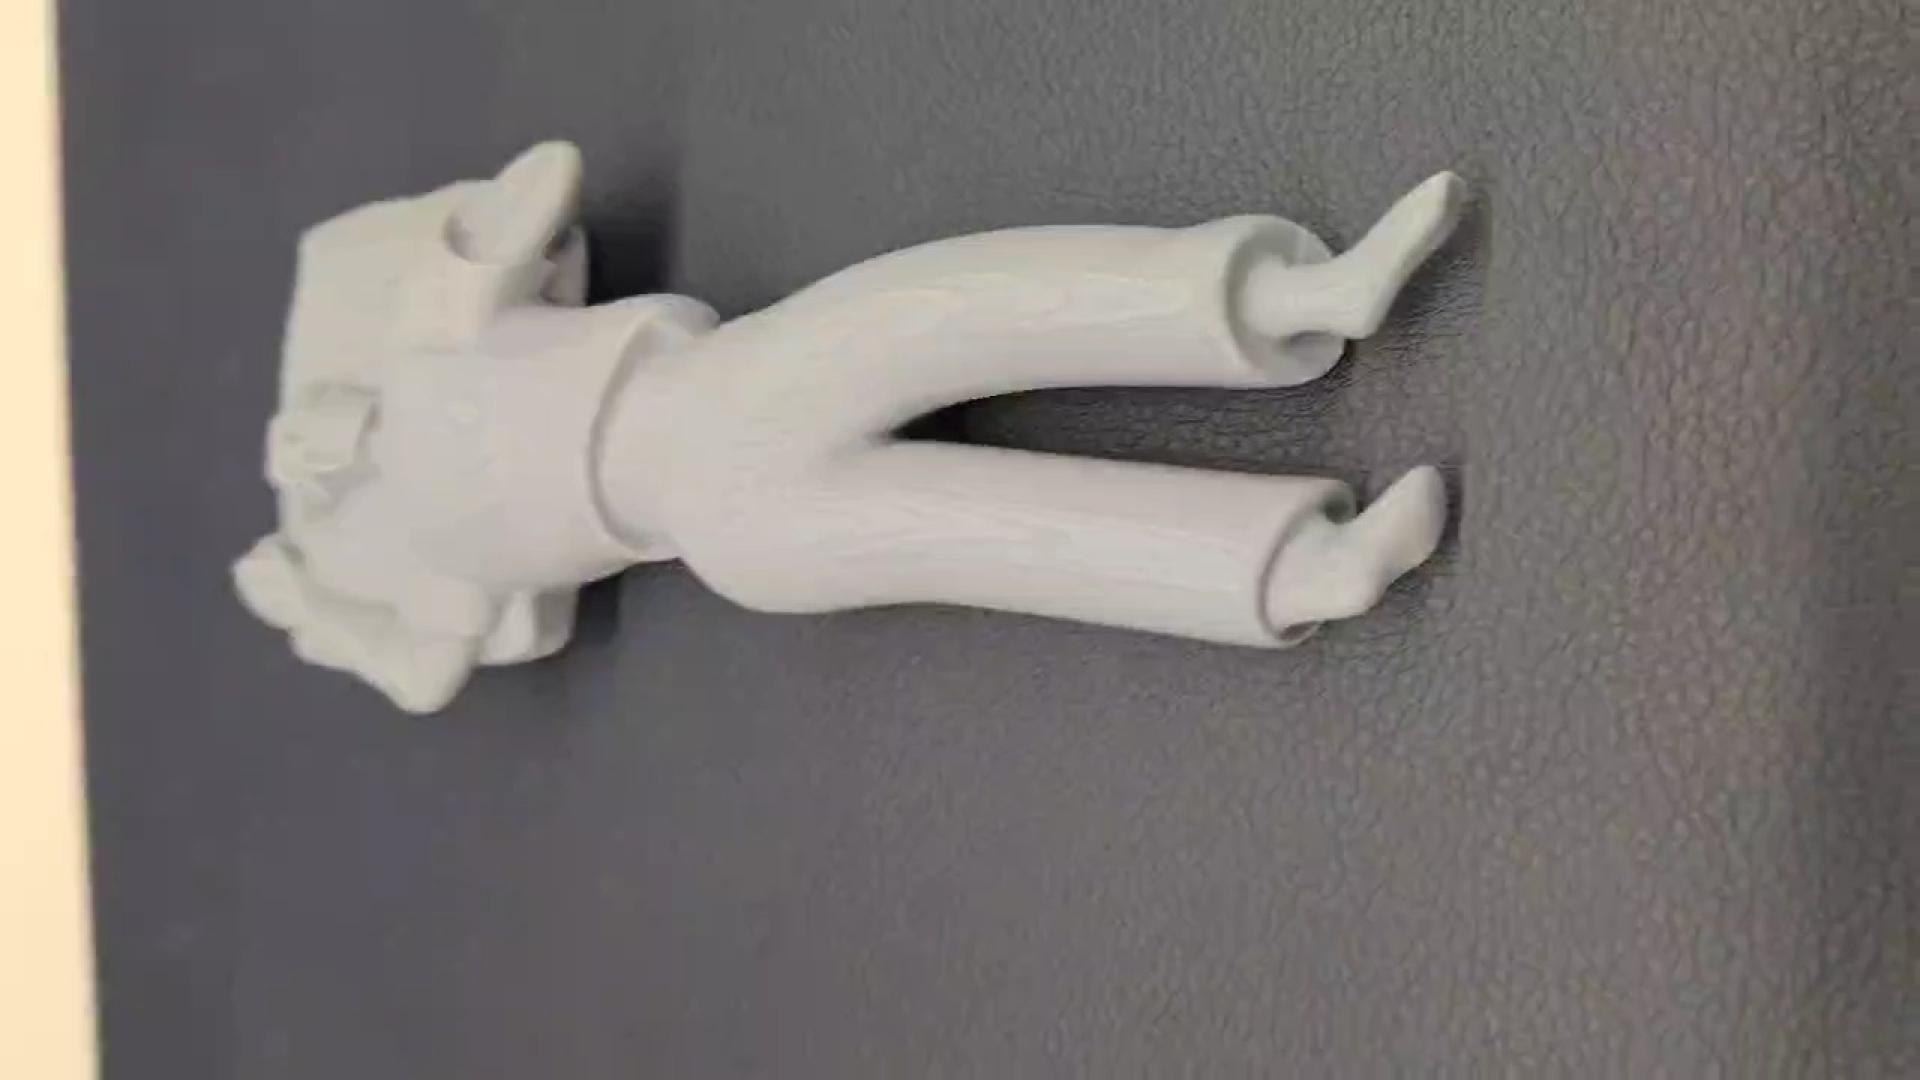Bad-style: (223, 127, 1485, 715)
